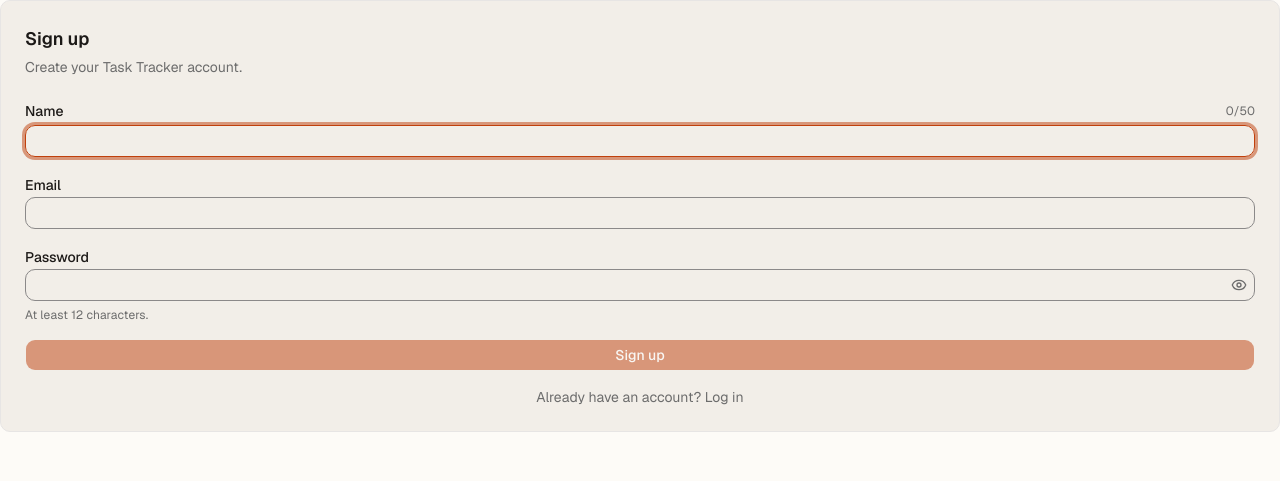
Test: SignupForm accessibility › announces a server error and ties it to the fields
Type "Sam" into the field labelled "Name" at (640, 141), box [25,125,1255,157]
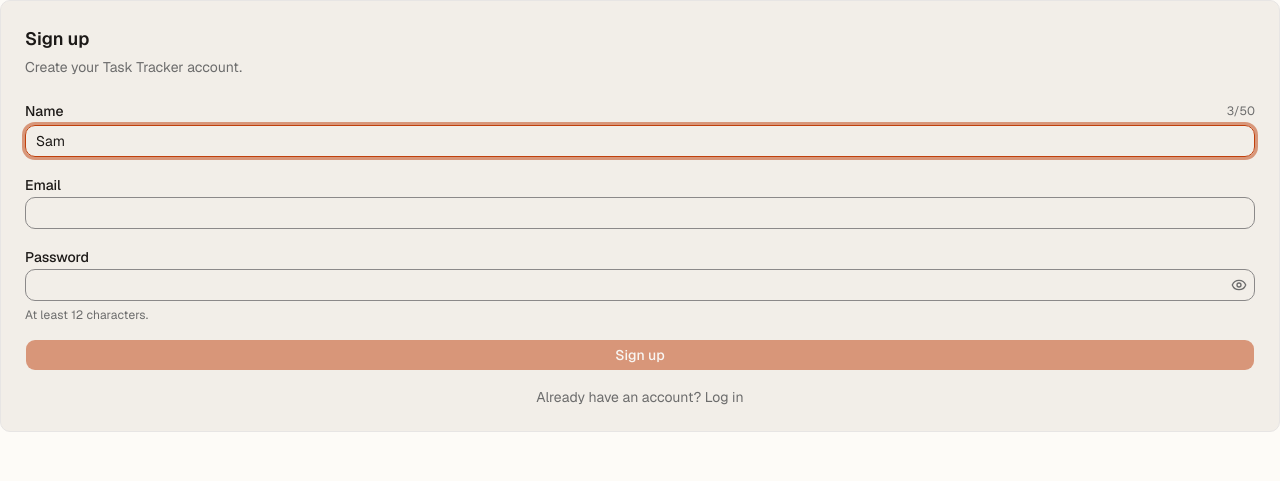
Type "sam@example.com" into the field labelled "Email" at (640, 213), box [25,197,1255,229]
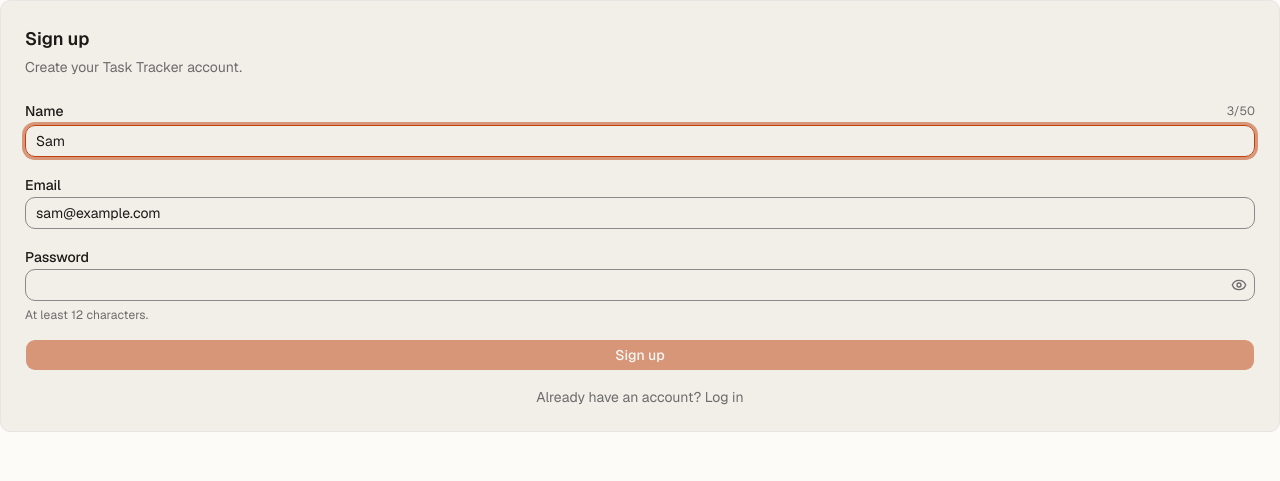
Type "a-long-enough-password" into the password field labelled "Password" at (626, 285), box [26,269,1227,301]
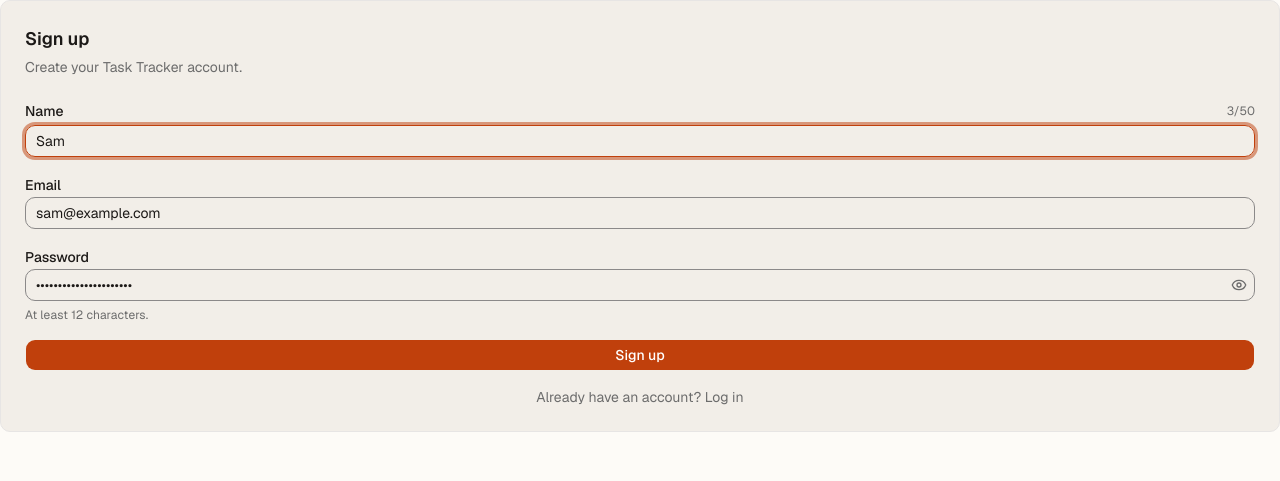
Click the button "Sign up" at (640, 355), box [25,339,1255,371]
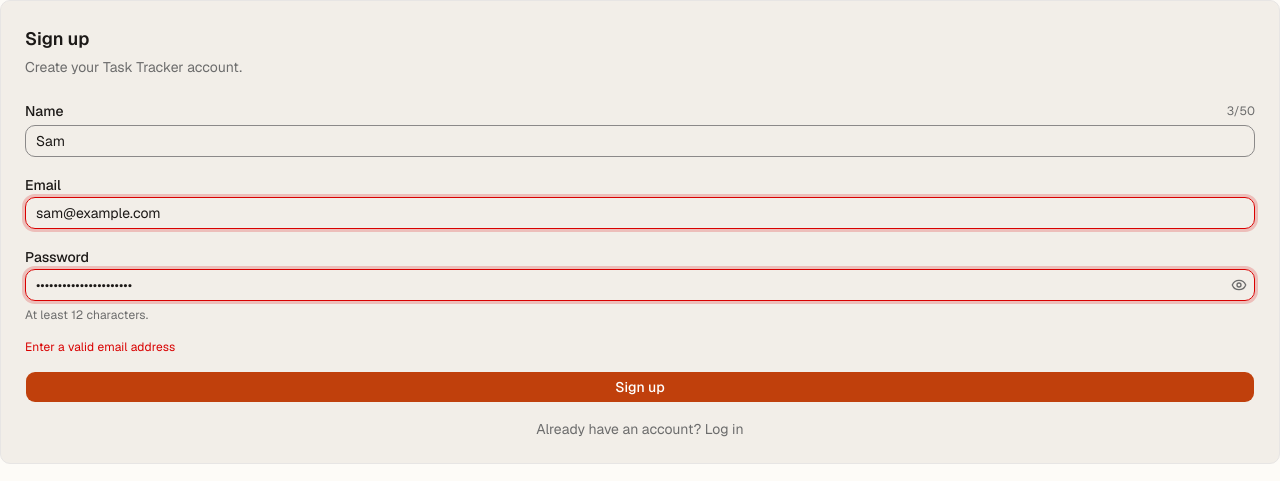
Check: the message reads "Enter a valid email address", box [25,339,175,355]
